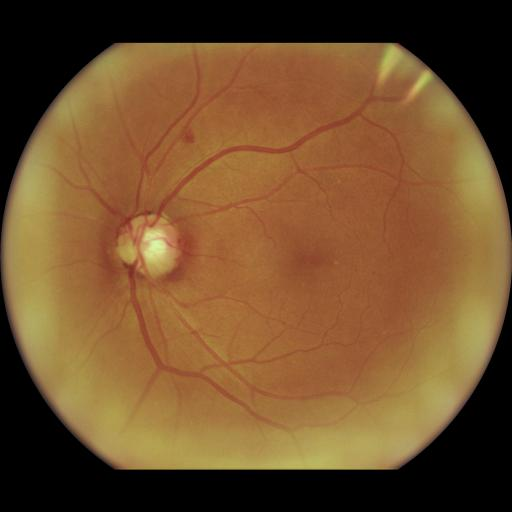Optic Cup: (138, 229, 168, 262)
Optic Disc: (117, 213, 182, 279)
